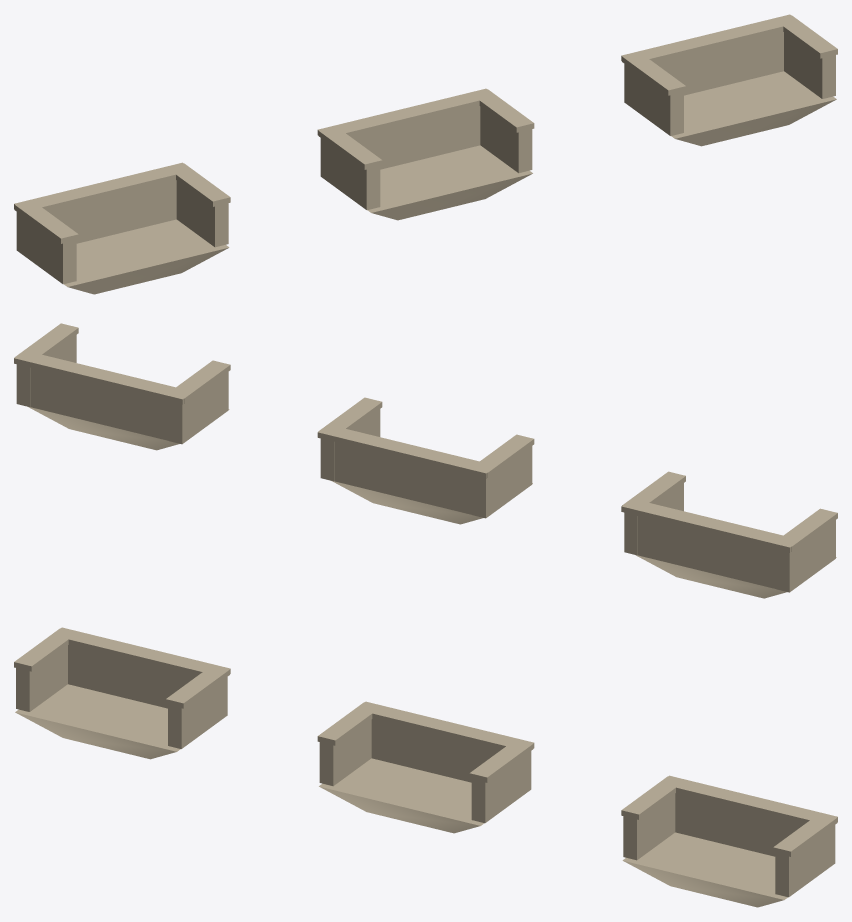
Rendered from knight-library-balconies-2026-11-10.glb.
3 views of the same model, one above another, from view 1: azimuth 30°, elevation 25°; view 2: azimuth 150°, elevation 25°; view 3: azimuth 330°, elevation 25° (orthographic).
Parts seen in each view (by area): view 1: exterior-detail-building; view 2: exterior-detail-building; view 3: exterior-detail-building.
Boxes of the visible parts, x1,y1,x2,y2 form: exterior-detail-building: (14, 14, 837, 294); exterior-detail-building: (14, 323, 837, 598); exterior-detail-building: (14, 627, 837, 907).
Size of the model in its own units: 24.05 by 2.12 by 2.69.
